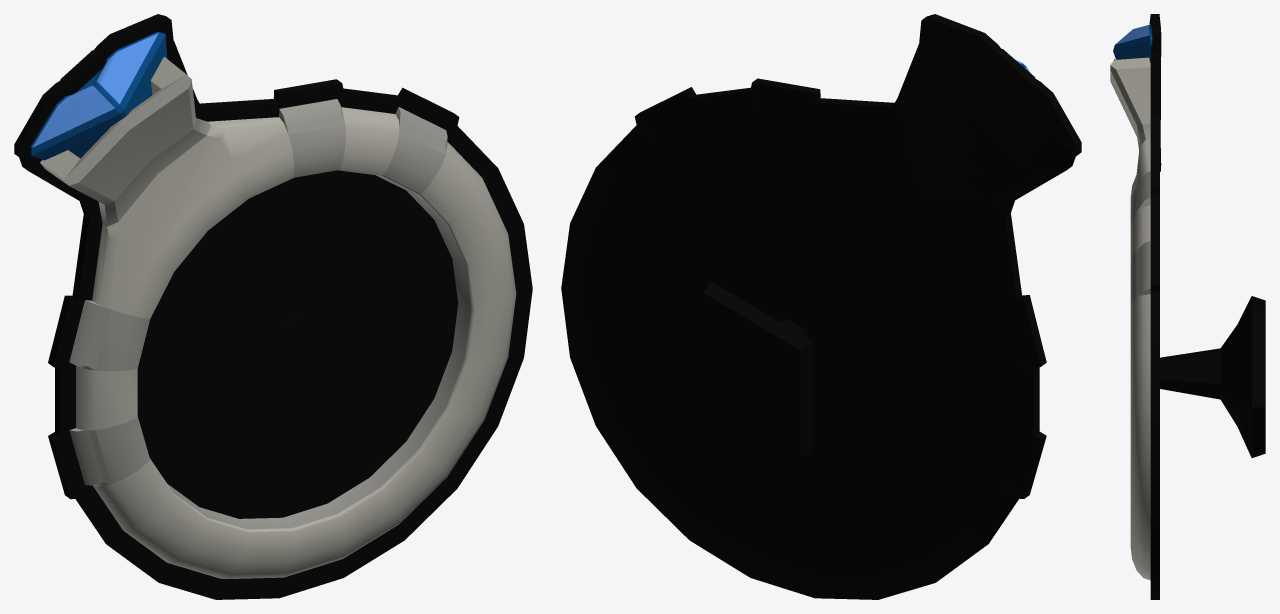
File: Ring.fbx
3 renders of one model, left to right at view 1: azimuth 30°, elevation 25°; view 2: azimuth 150°, elevation 25°; view 3: azimuth 270°, elevation 25°, orthographic. The views are drawn at different scales.
Parts seen in each view (by area): view 1: pPyramid5; view 2: pPyramid5; view 3: pPyramid5.
Boxes of the visible parts, x1,y1,x2,y2 form: pPyramid5: (14, 14, 532, 599); pPyramid5: (561, 14, 1081, 599); pPyramid5: (1110, 14, 1265, 599).
Bounding box in the file's own units: 1.06 × 1.2 × 0.3399.
